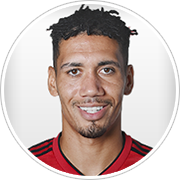face: (45, 43, 137, 127)
